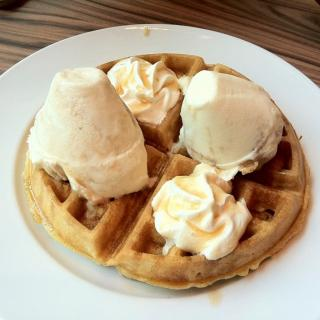Waffle: (23, 50, 311, 291)
